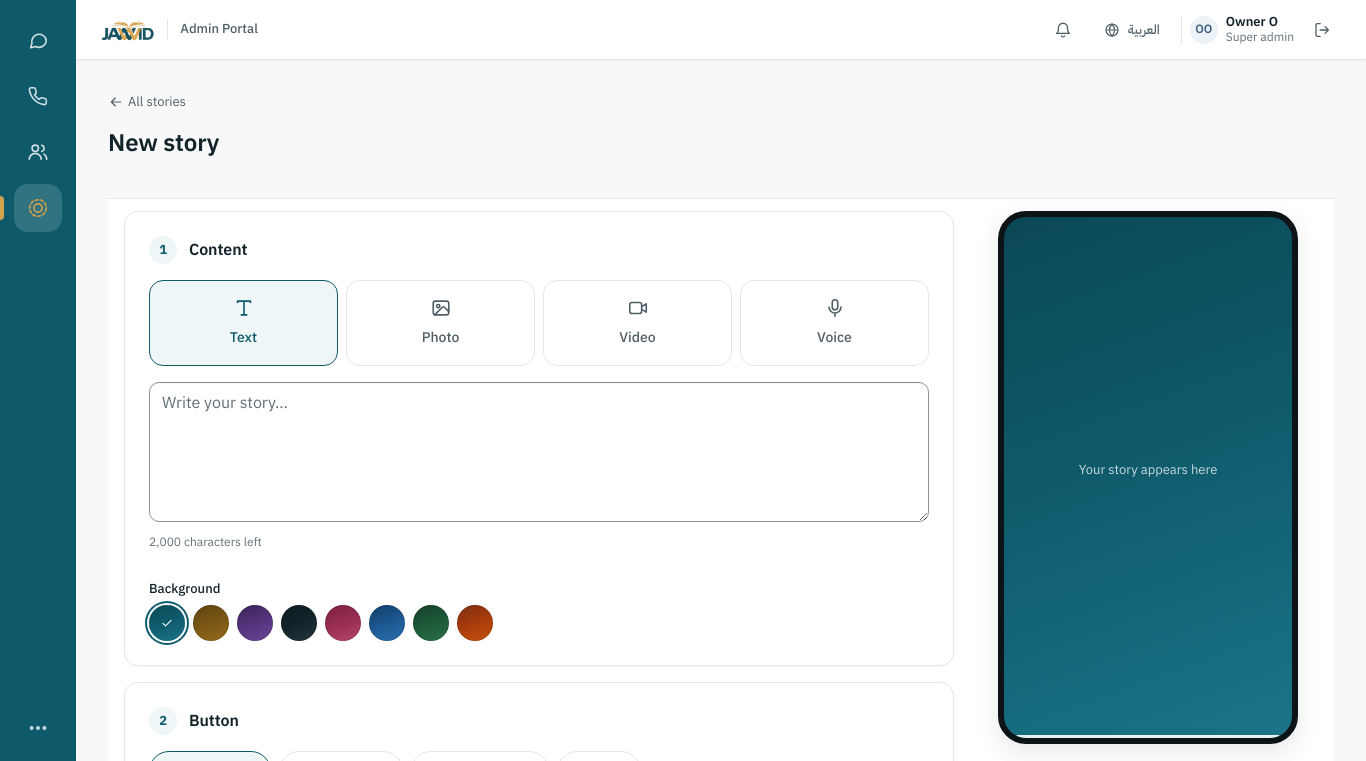
composing › publishes a text story to an audience: no title, no recipients, one segment clause
Step 1. Type "Eid Mubarak" into the text box labelled "Write your story…" → (539, 452), box [149,382,929,522]
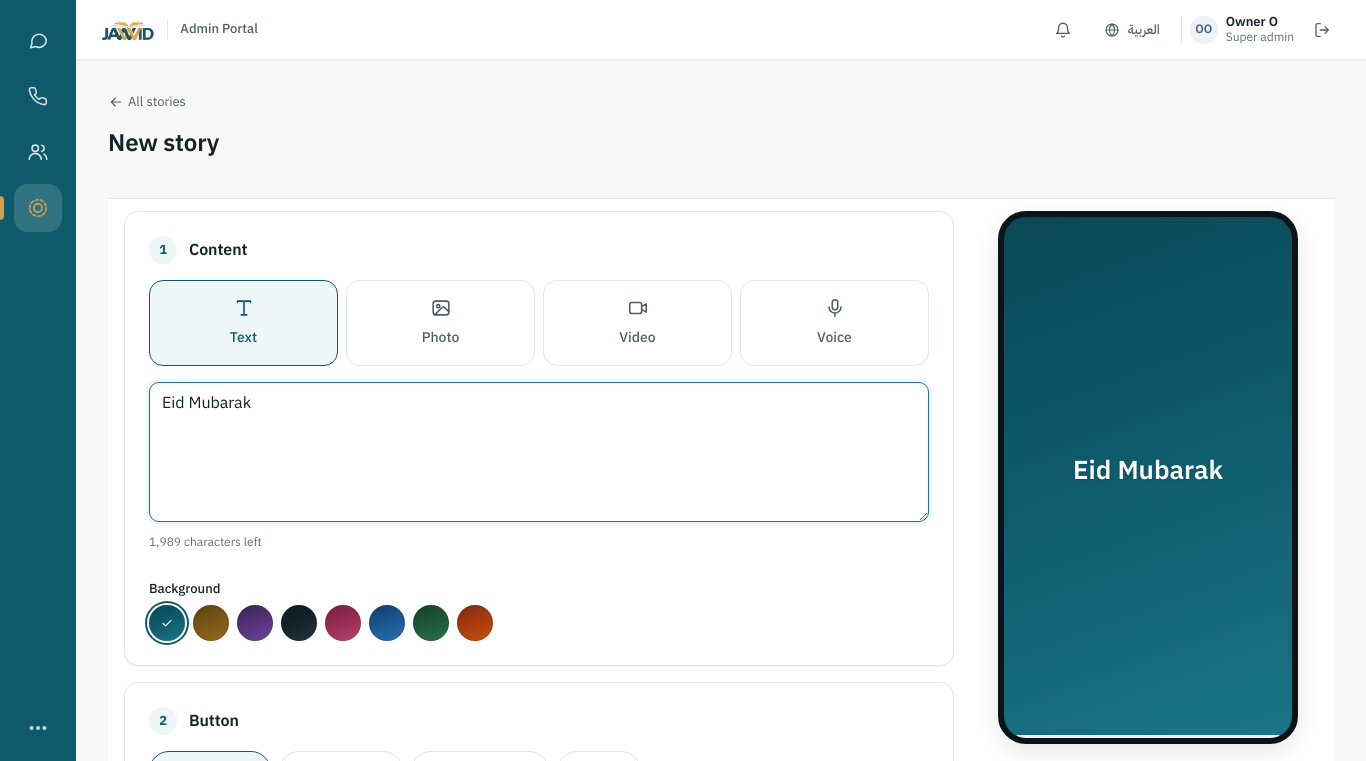
Step 2. Click the radio button named "Plum" → (255, 623), box [237,605,273,641]
(page scrolled)
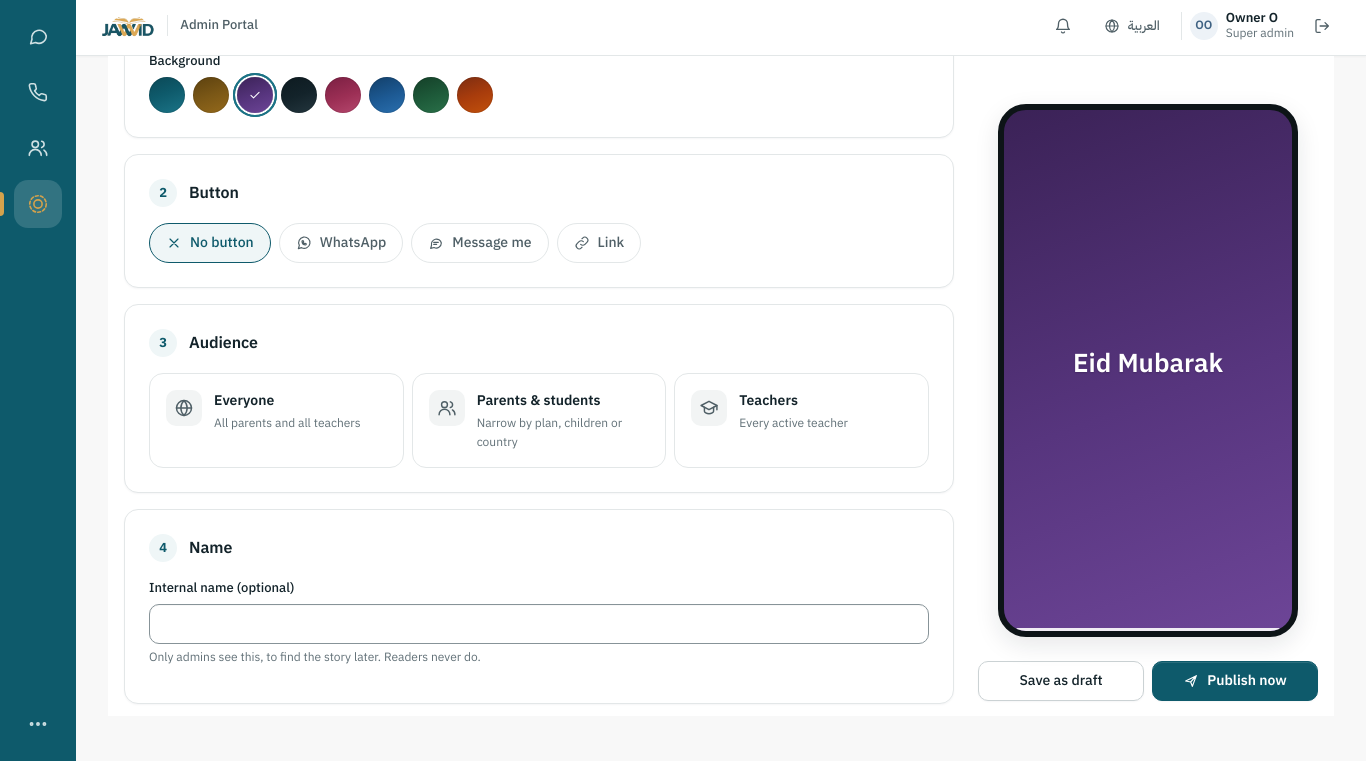
Step 3. Click the 9th radio button labelled "Everyone All parents and all teachers" → (276, 421), box [149,373,404,468]
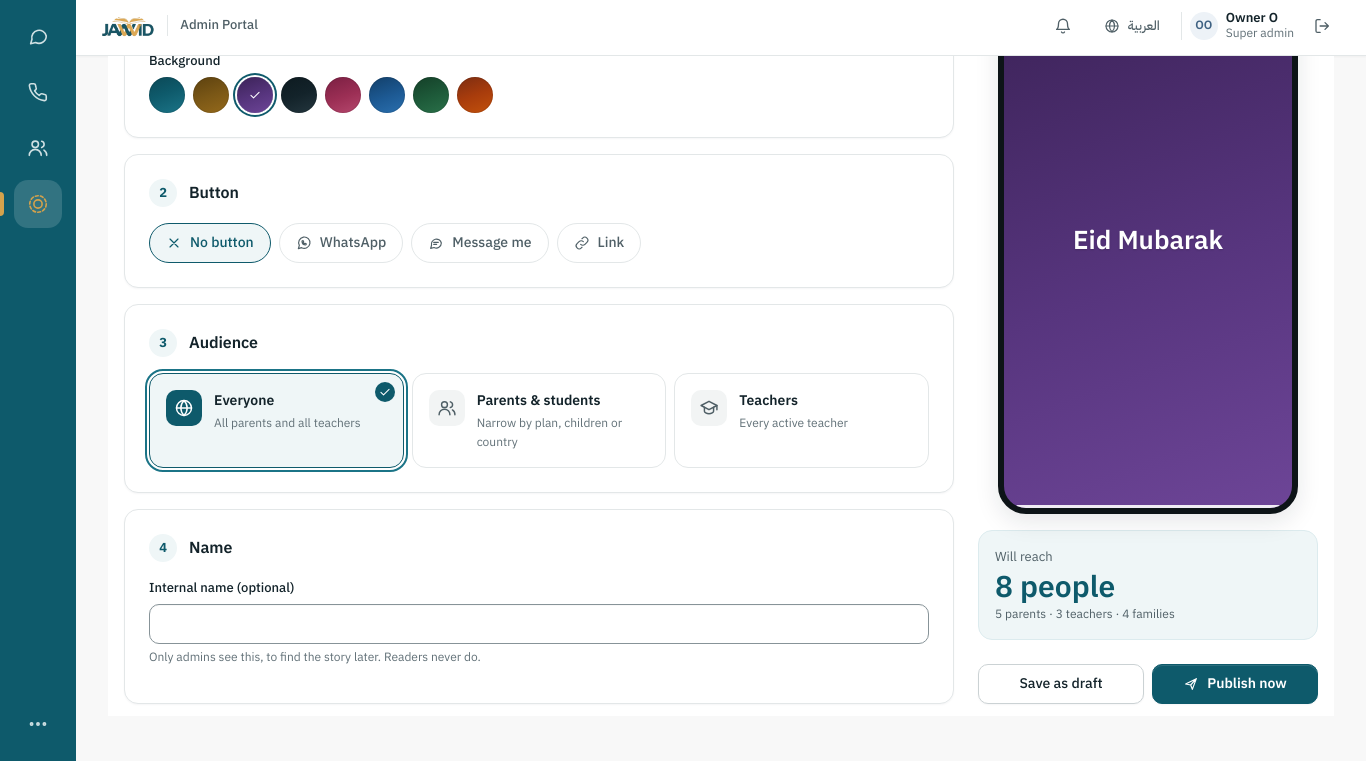
Now the text "8 people" is shown, box [995,563,1115,608]
Now the text "5 parents · 3 teachers · 4 families" is shown, box [995,604,1175,622]
Step 4. Click the button "Publish now" → (1235, 684), box [1152,664,1318,704]
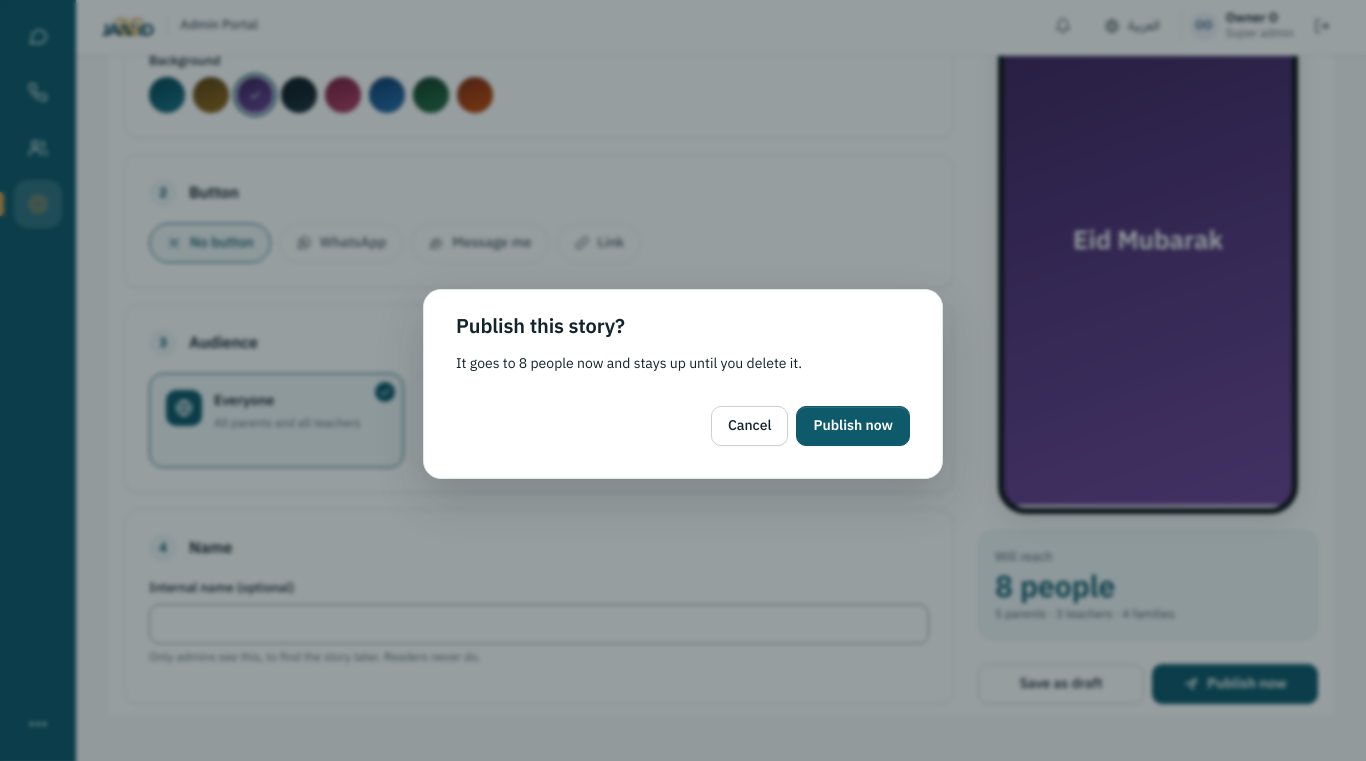
Now the text "It goes to 8 people now and stays up until you delete it." is shown, box [456,353,802,374]
Step 5. Click the button "Publish now" → (853, 426), box [796,406,910,446]
(page scrolled)
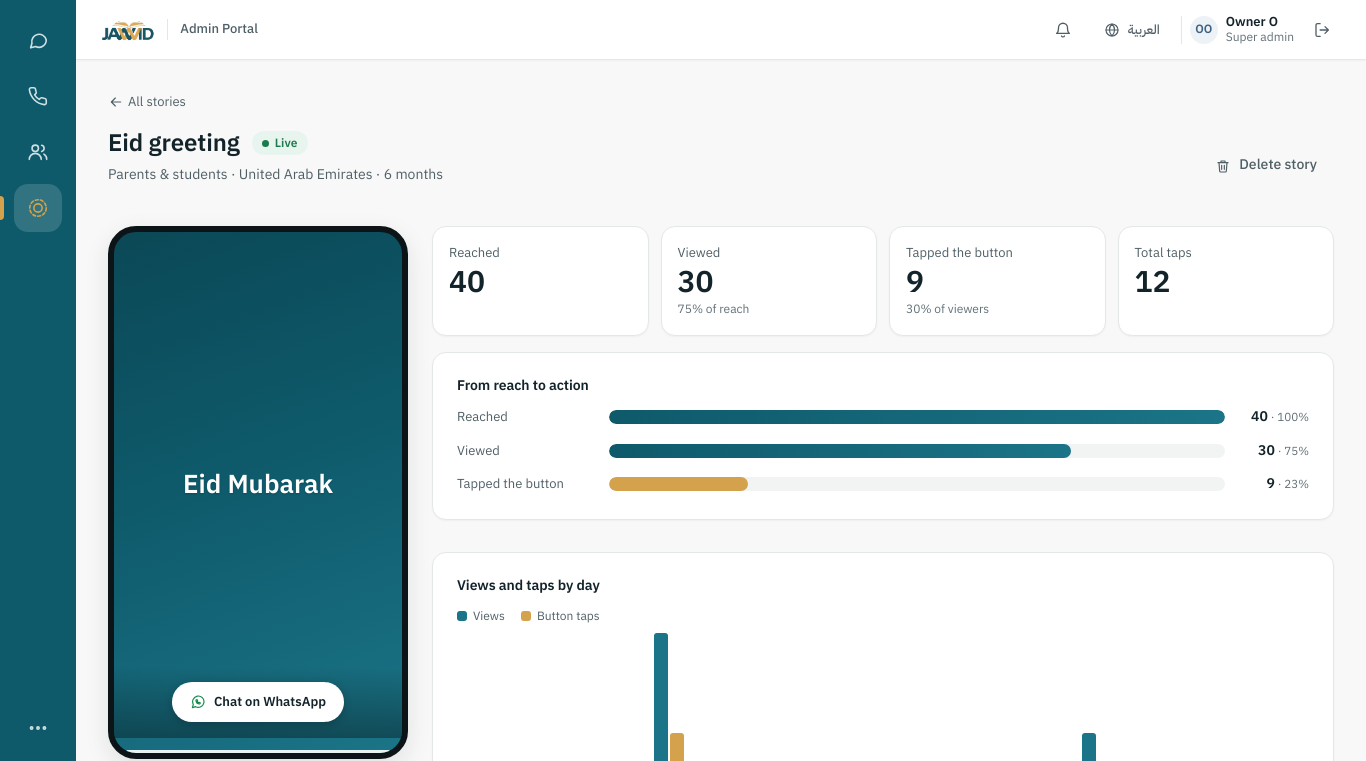
Now the heading "Eid greeting Live" is shown, box [108,125,308,161]
